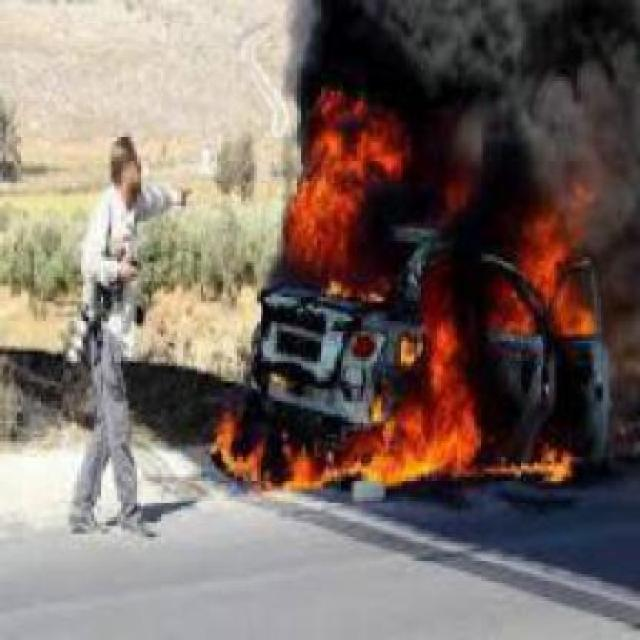Fire: (286, 98, 407, 296), (366, 310, 484, 488), (494, 202, 595, 336), (215, 410, 368, 491), (481, 442, 576, 488)
